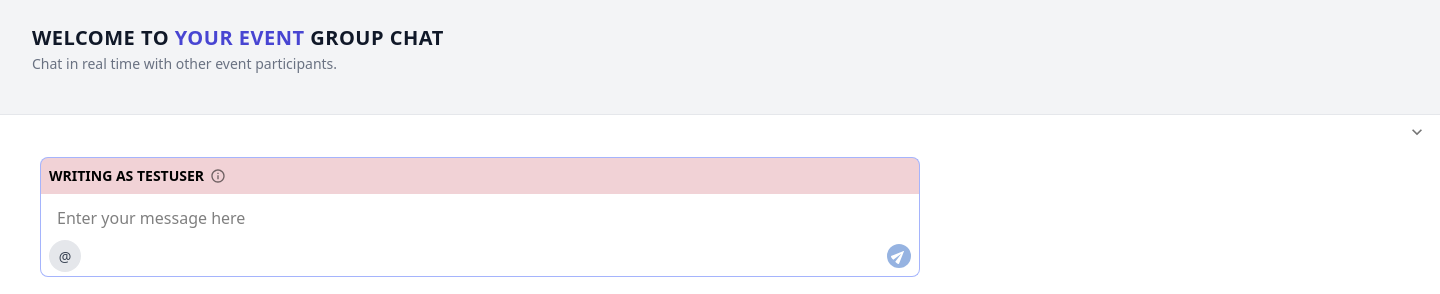
Test: GroupChatPanel input toggle › shows "Show input" aria-label when input is hidden
Step 1. Click the button named "Hide input" → (1417, 132), box [1402,117,1432,147]
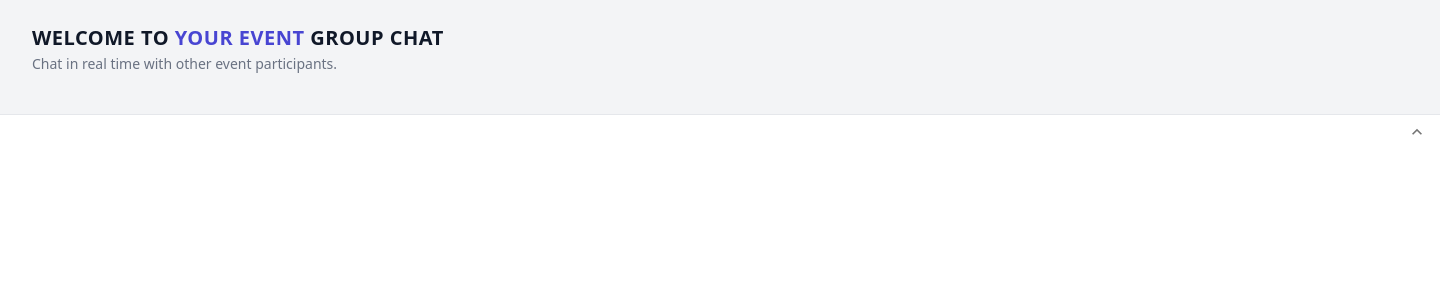
Expected: the button named "Show input" is shown, [1402,117,1432,147]
